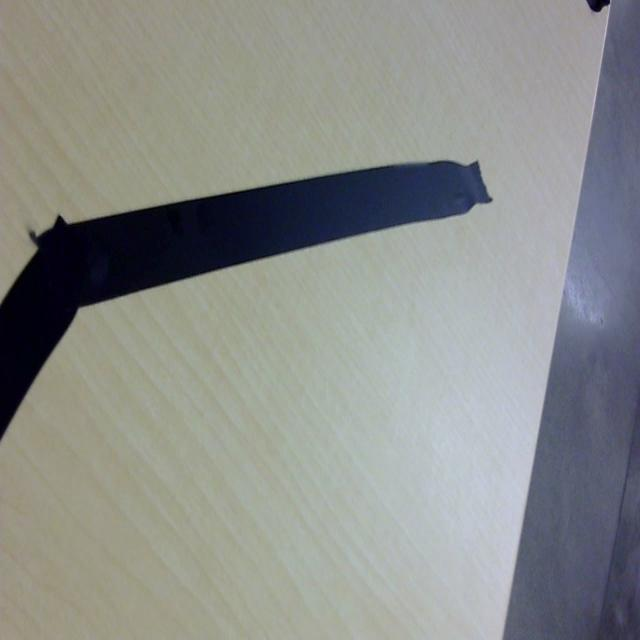tape: (0, 138, 520, 484), (576, 0, 618, 17)
